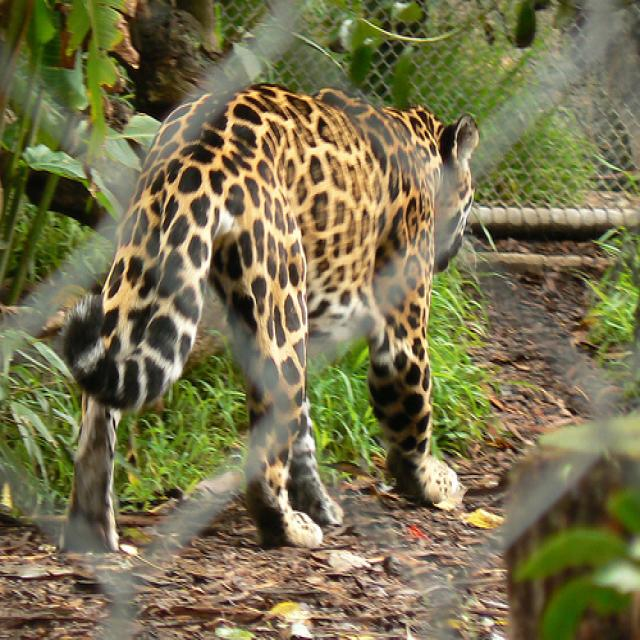Leopard: (58, 81, 478, 550)
